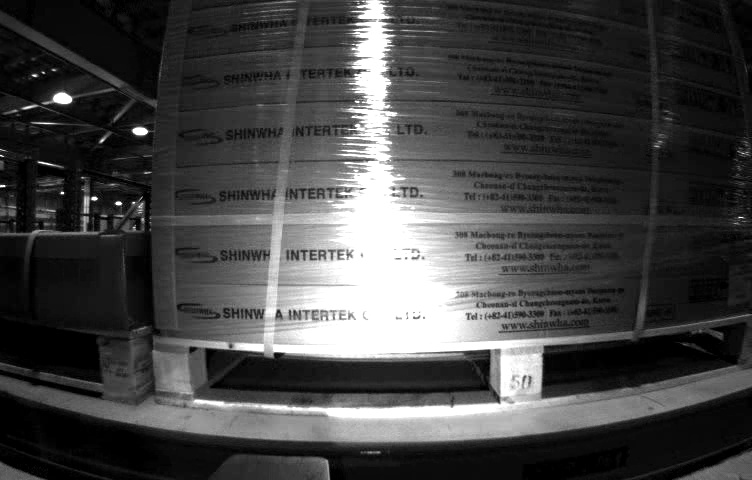True Barcode: (729, 265, 750, 302)
